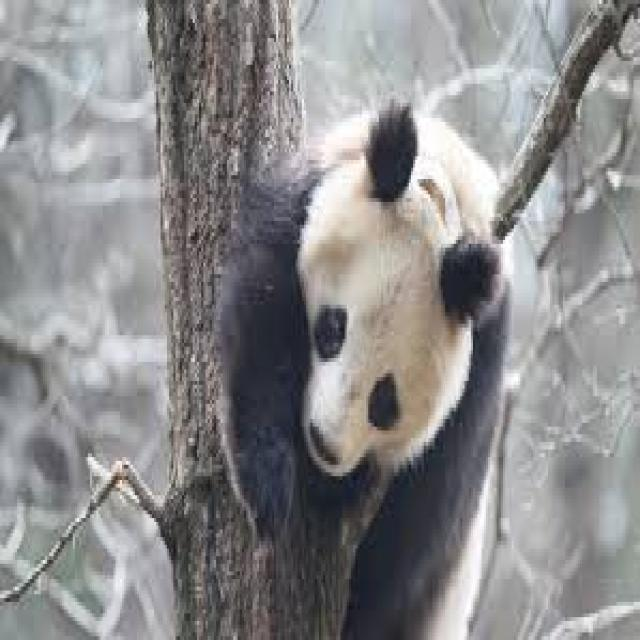Panda: (208, 76, 516, 640)
